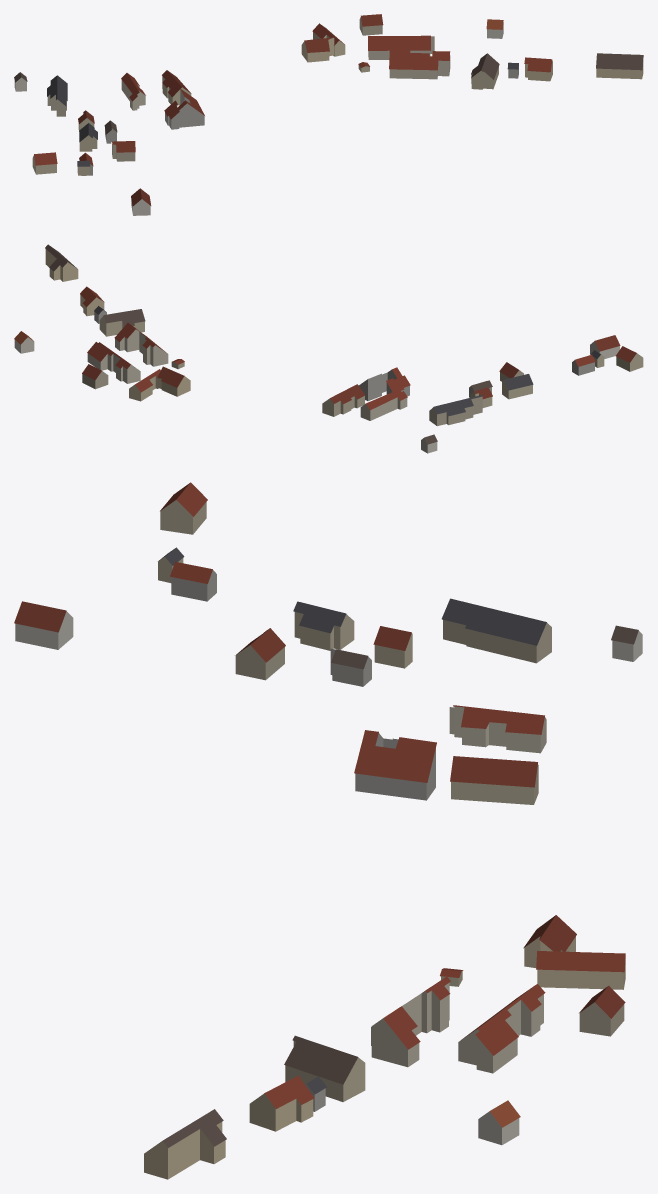
3 renders of one model, top to bottom at view 1: azimuth 30°, elevation 25°; view 2: azimuth 150°, elevation 25°; view 3: azimuth 270°, elevation 25°, orthographic. The views are drawn at different scales.
Visible parts, largest first — view 1: buildings; view 2: buildings; view 3: buildings.
Boxes of the visible parts, left/top/right/bottom form: buildings: left=14, top=14, right=643, bottom=215; buildings: left=14, top=244, right=643, bottom=453; buildings: left=14, top=482, right=642, bottom=1179.
Size of the model in its own units: 401 by 44.74 by 184.
